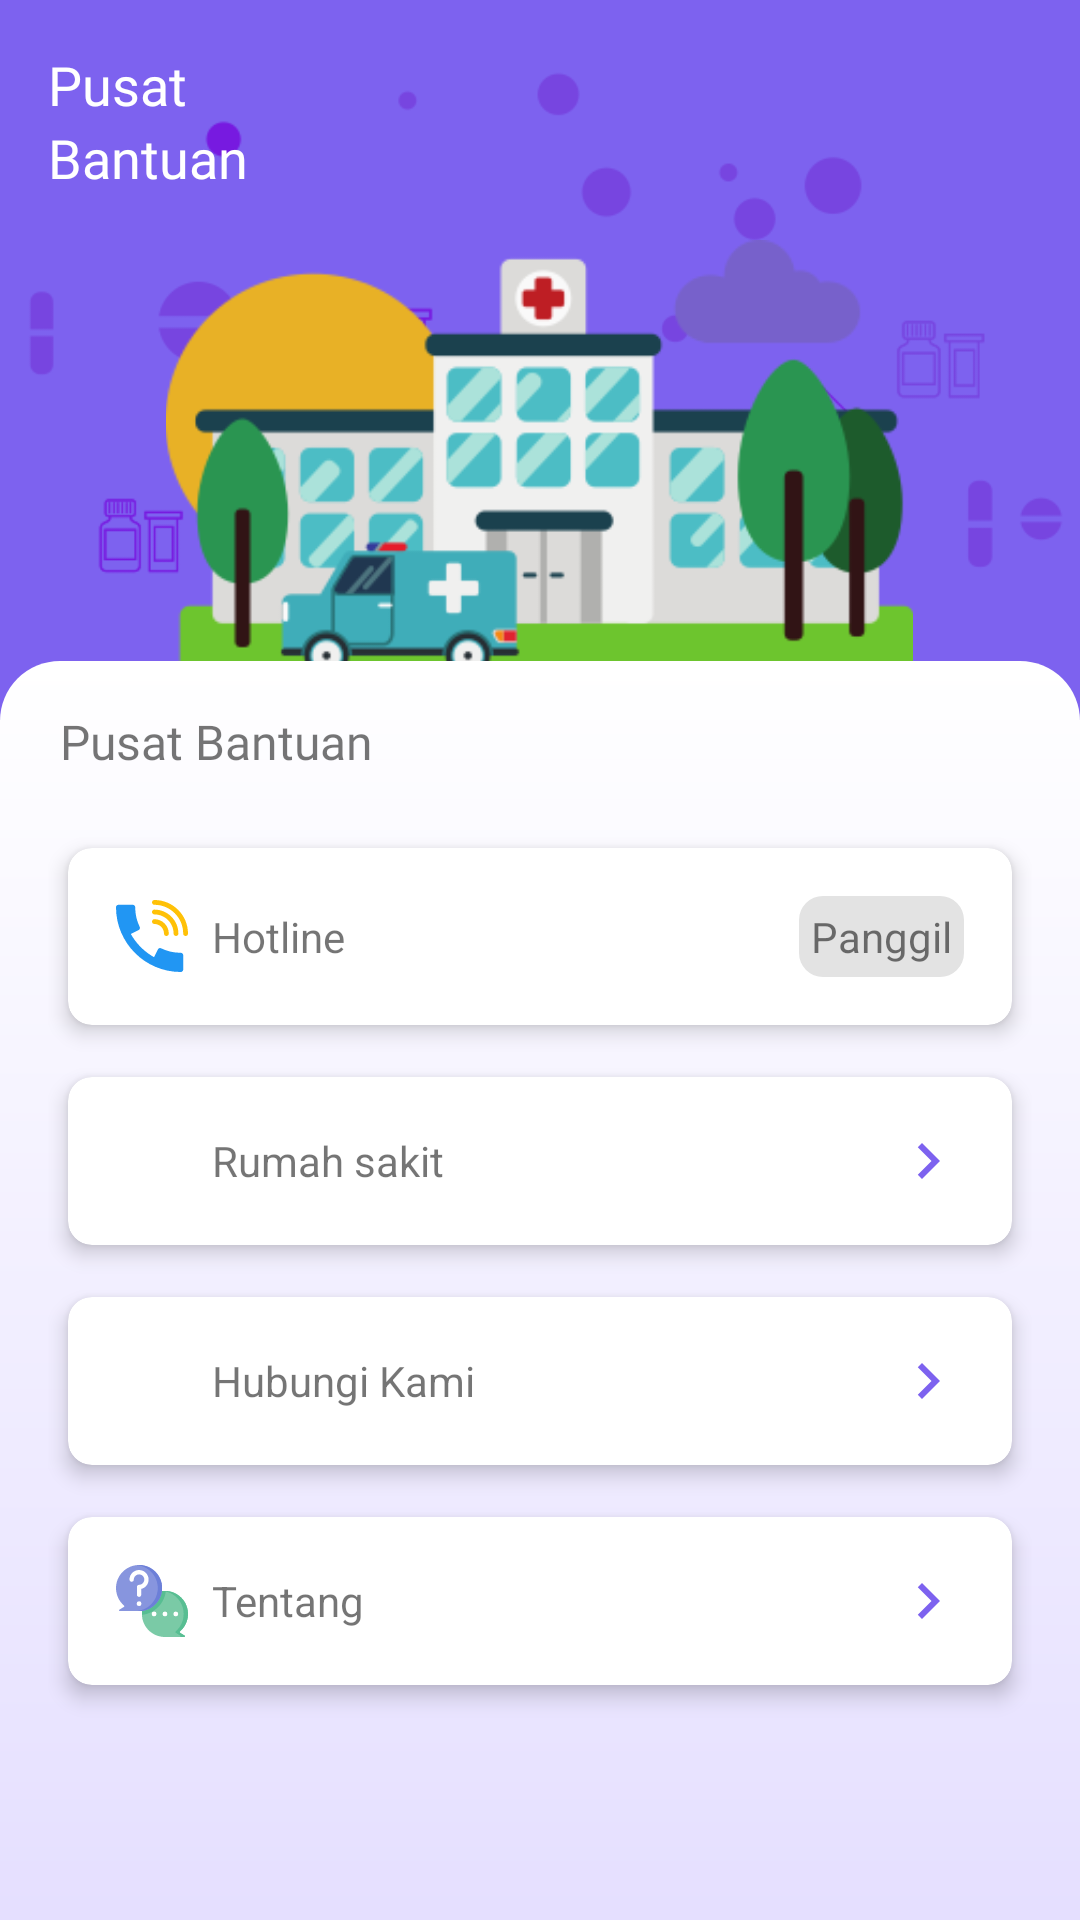

Where to tap for icons on this 1080×1920 app screen, as [x,y]:
chevron right: [929,1161], [929,1381], [929,1601]
question: [152,1601]
telepon: [152,936]
